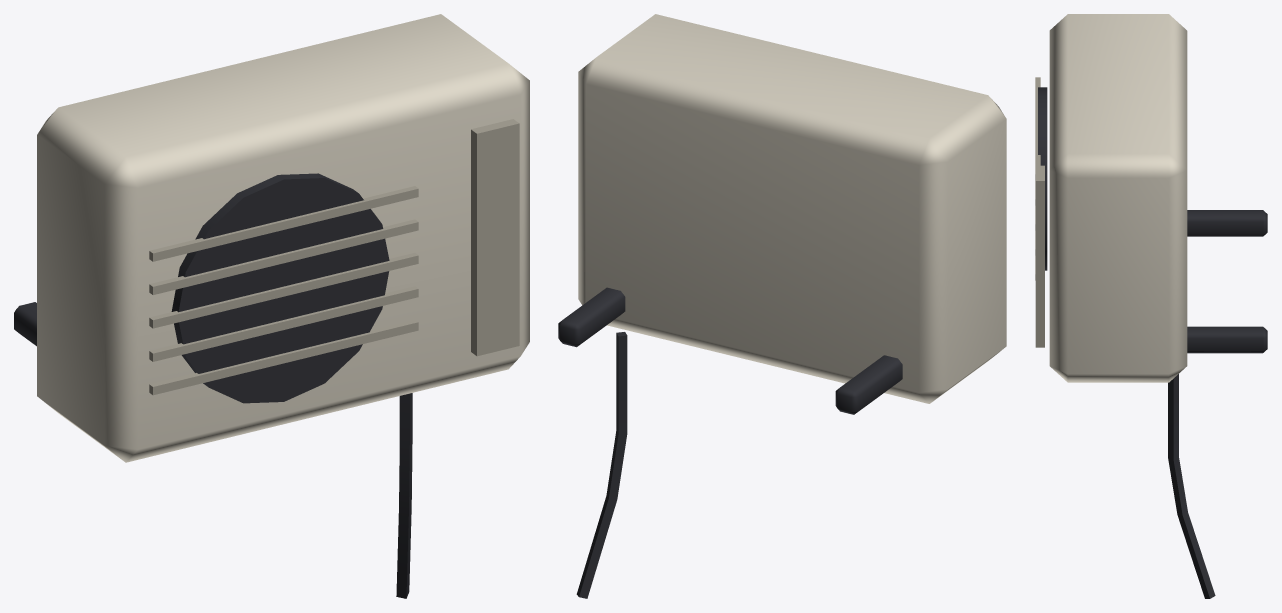
Rendered from wall_ac_unit.glb.
3 views of the same model, side by side, from view 1: azimuth 30°, elevation 25°; view 2: azimuth 150°, elevation 25°; view 3: azimuth 270°, elevation 25° (orthographic). The views are drawn at different scales.
Parts seen in each view (by area): view 1: wall_ac_unit; view 2: wall_ac_unit; view 3: wall_ac_unit.
Boxes of the visible parts, bbox=[...] form: wall_ac_unit: bbox=[14, 14, 529, 598]; wall_ac_unit: bbox=[558, 14, 1006, 598]; wall_ac_unit: bbox=[1035, 14, 1267, 598].
Size of the model in its own units: 0.8 by 1.08 by 0.506.
